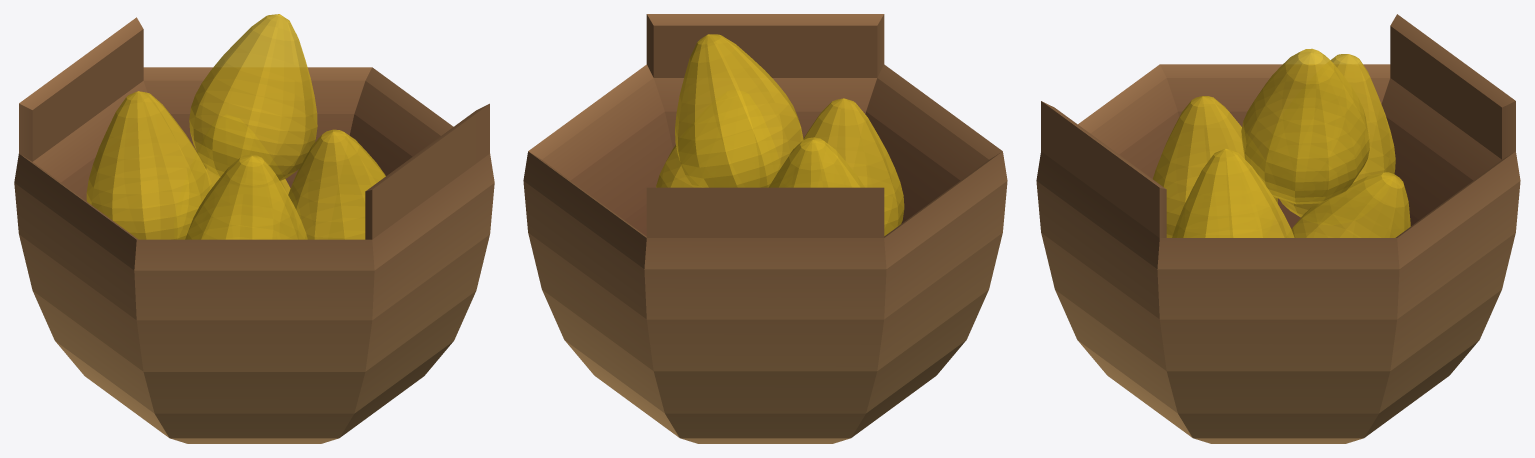
Rendered from pappa per apette_miele.fbx.
3 renders of one model, left to right at view 1: azimuth 30°, elevation 25°; view 2: azimuth 150°, elevation 25°; view 3: azimuth 270°, elevation 25°, orthographic.
Visible parts, largest first — view 1: cestino 1.002, Miele.001, Miele.003, Miele.005, Miele; view 2: cestino 1.002, Miele.001, Miele, Miele.003, Miele.005; view 3: cestino 1.002, Miele.001, Miele.005, Miele, Miele.004, Miele.003.
Boxes of the visible parts, <box> form: cestino 1.002: <box>14,17,494,443</box>; Miele.001: <box>189,14,317,180</box>; Miele.003: <box>86,91,212,239</box>; Miele.005: <box>288,129,385,239</box>; Miele: <box>185,154,307,239</box>; cestino 1.002: <box>523,14,1007,443</box>; Miele.001: <box>675,34,803,187</box>; Miele: <box>803,98,904,235</box>; Miele.003: <box>768,137,864,187</box>; Miele.005: <box>656,145,733,187</box>; cestino 1.002: <box>1036,14,1520,443</box>; Miele.001: <box>1241,48,1369,204</box>; Miele.005: <box>1172,148,1294,237</box>; Miele: <box>1153,96,1277,237</box>; Miele.004: <box>1291,172,1410,237</box>; Miele.003: <box>1279,54,1395,217</box>.
Bounding box in the file's own units: 243 × 236 × 281.
7 materials, 1 textured.
